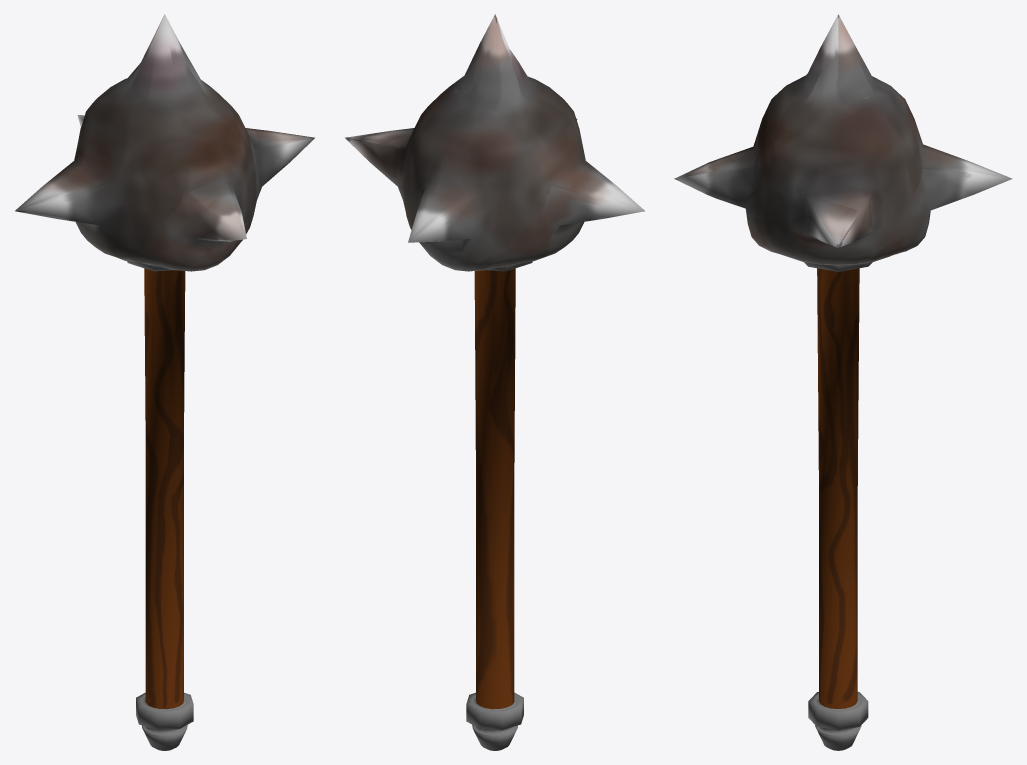
File: mace.fbx
3 views of the same model, side by side, from view 1: azimuth 30°, elevation 25°; view 2: azimuth 150°, elevation 25°; view 3: azimuth 270°, elevation 25° (orthographic).
Parts seen in each view (by area): view 1: Cube; view 2: Cube; view 3: Cube.
Boxes of the visible parts, x1,y1,x2,y2 form: Cube: [15, 14, 314, 750]; Cube: [345, 14, 644, 750]; Cube: [674, 14, 1012, 750].
Bounding box in the file's own units: 4.9 × 11.46 × 4.78.
